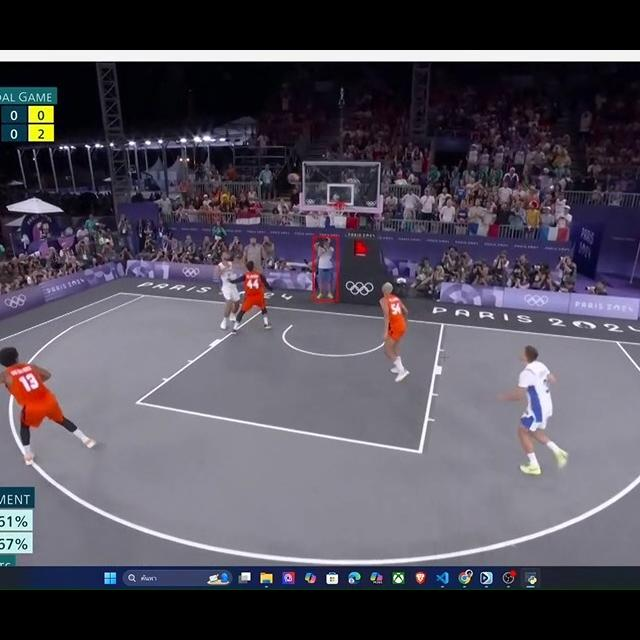hoop: (325, 201, 352, 228)
